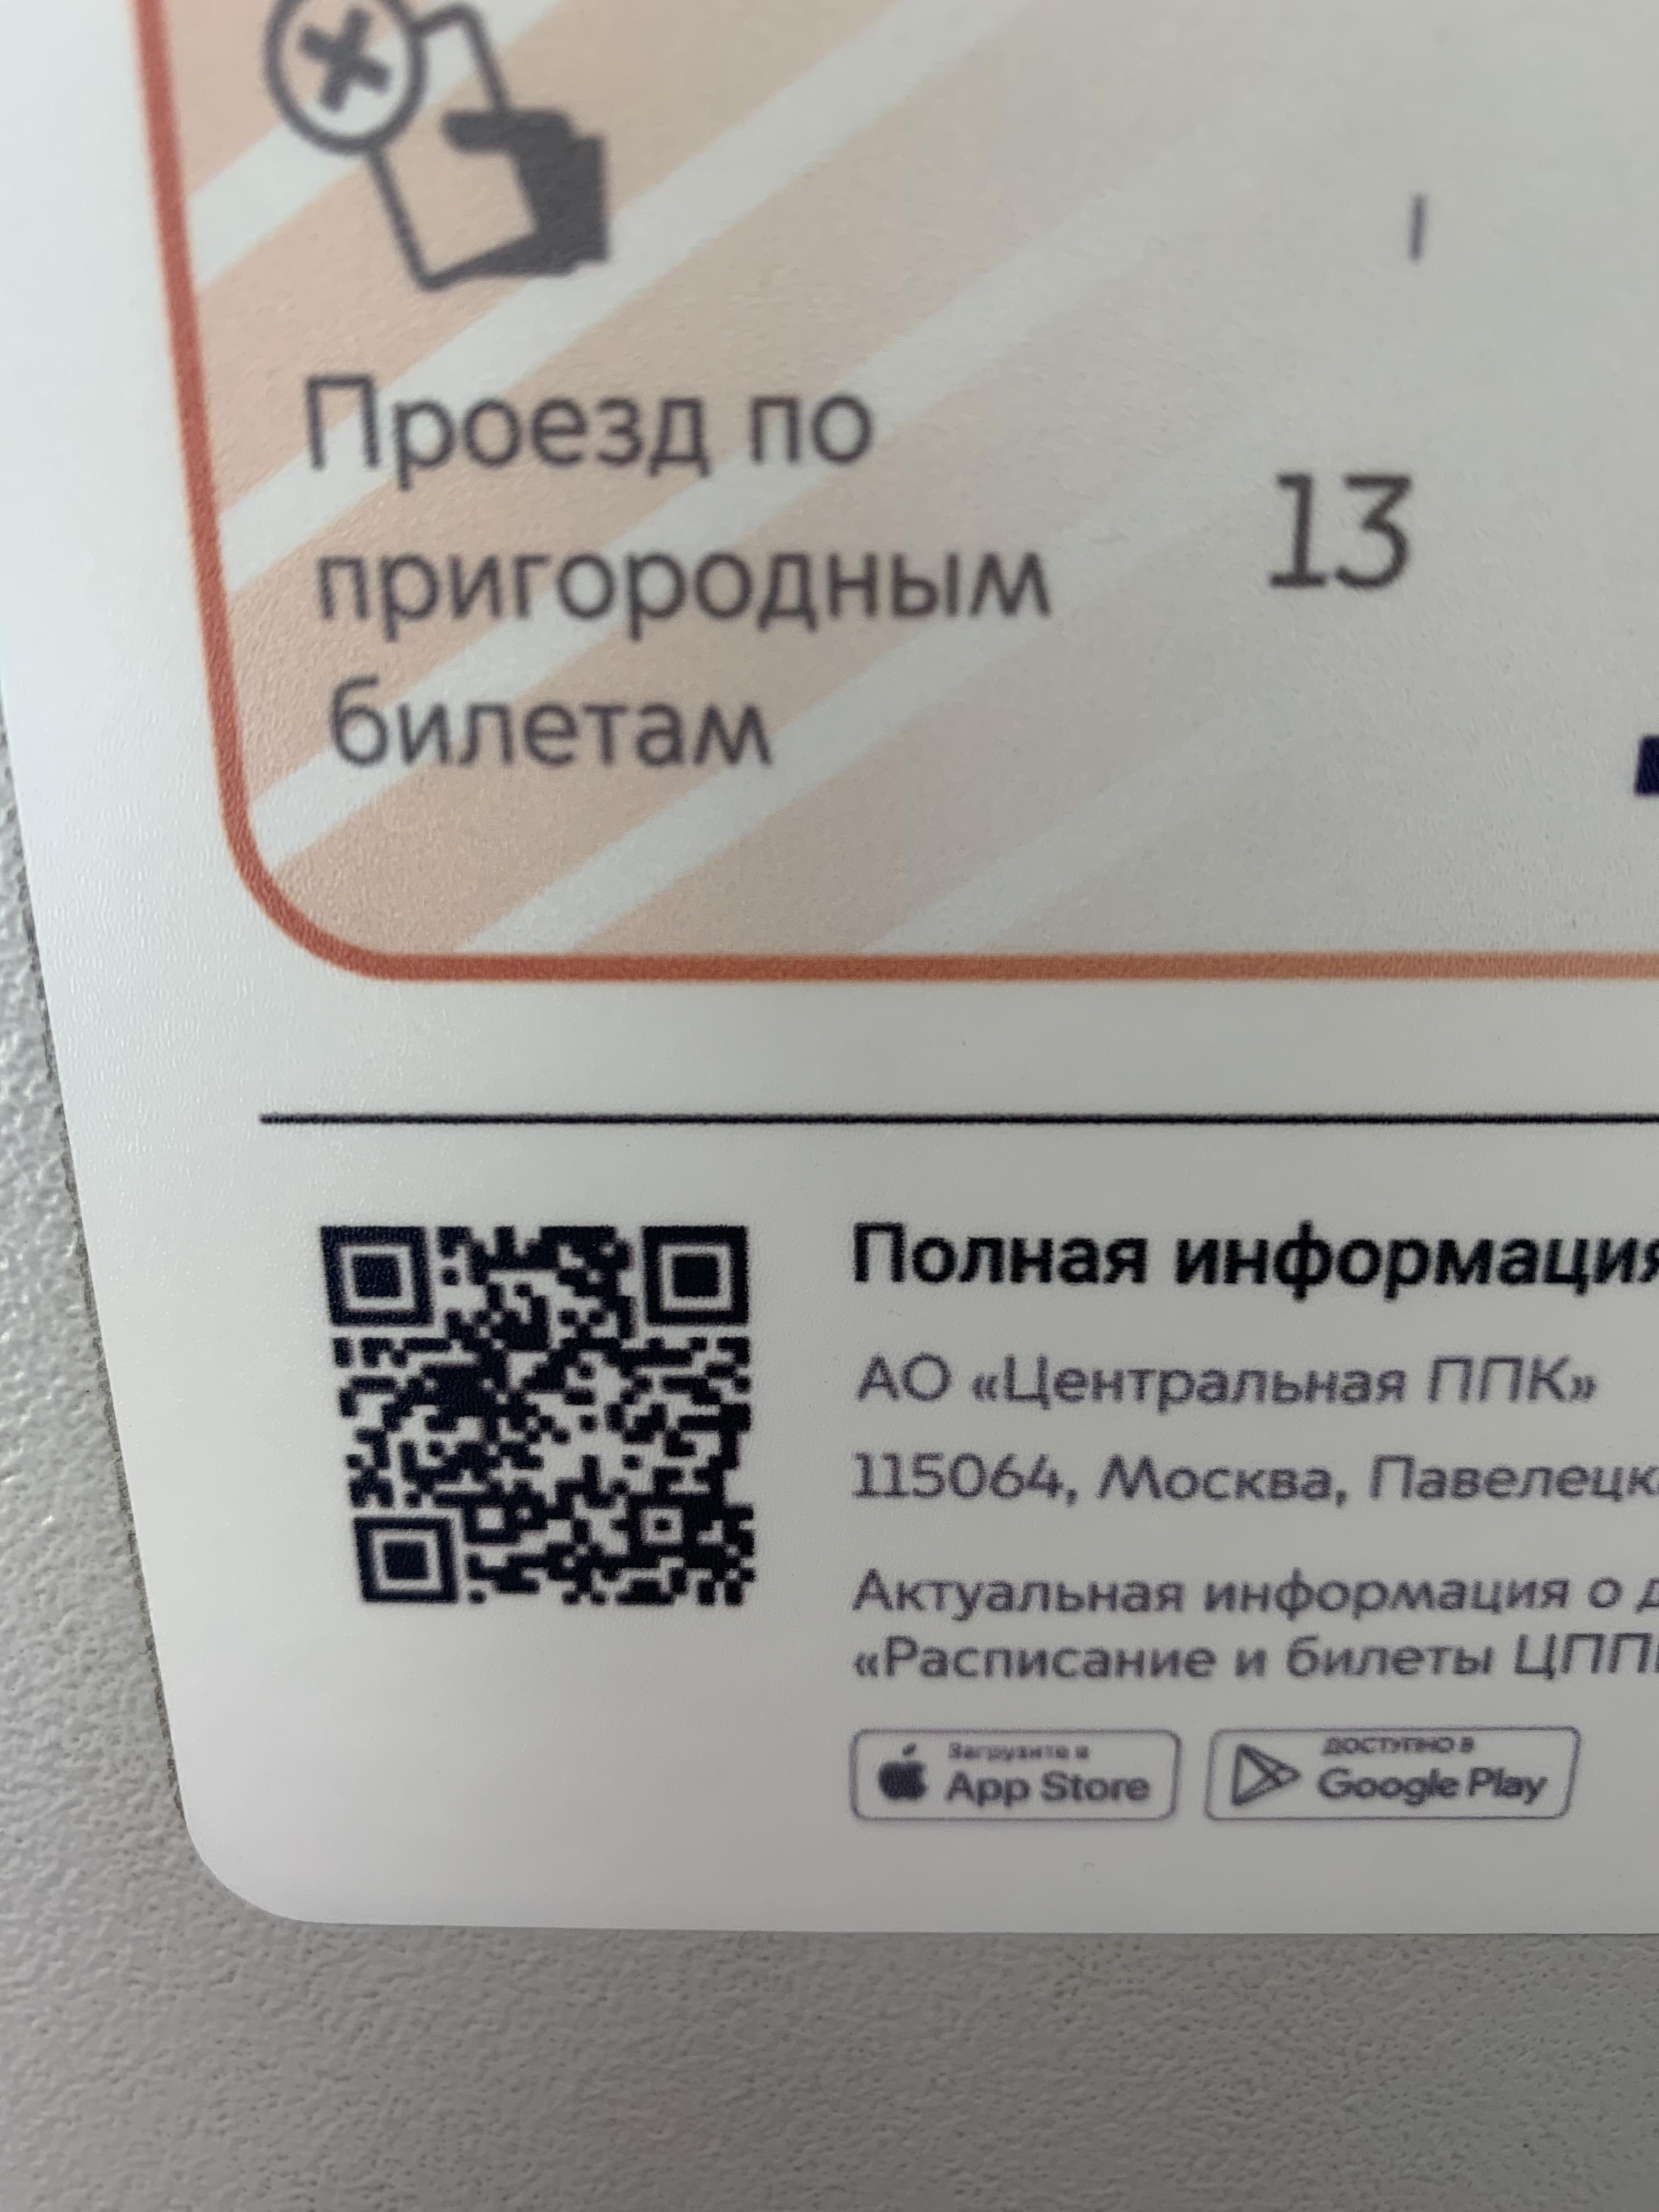qrcode: (319, 1221, 760, 1608)
